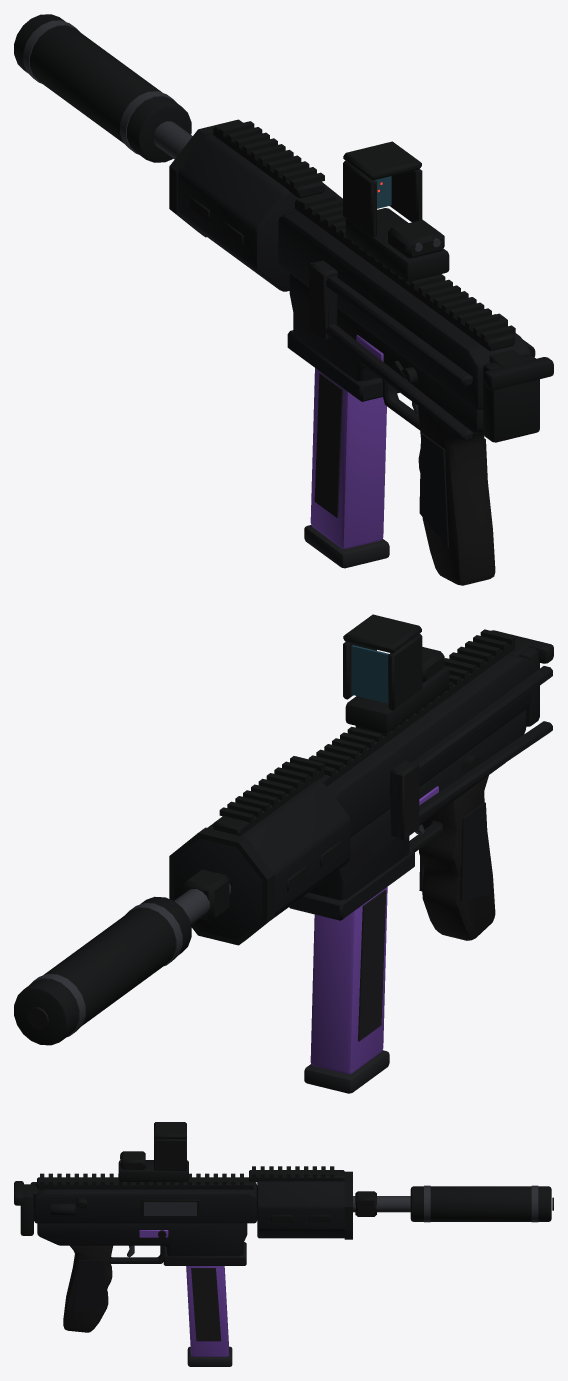
Rendered from gun_35.glb.
The picture shows the model from 3 angles, top to bottom: view 1: azimuth 30°, elevation 25°; view 2: azimuth 150°, elevation 25°; view 3: azimuth 270°, elevation 25°; orthographic projection. The views are drawn at different scales.
Visible parts, largest first — view 1: gun_35; view 2: gun_35; view 3: gun_35.
Boxes of the visible parts, x1,y1,x2,y2 form: gun_35: (14,14,553,585); gun_35: (14,614,553,1093); gun_35: (14,1122,553,1366).
Bounding box in the file's own units: 0.0765 × 0.3105 × 0.6525.
